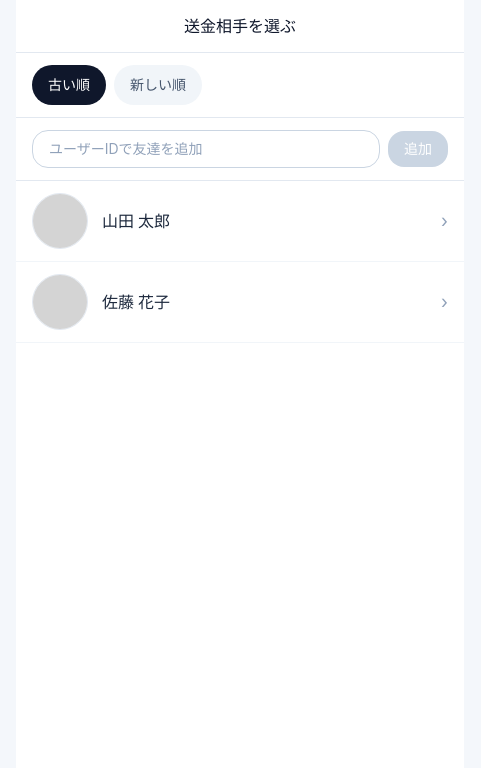
Test: RecipientSelectionScreen › 友達追加 › 追加に成功したら一覧を取り直す
Expected: the button "山田 太郎 ›" is shown, [16,181,464,261]
Type "friend-003" into the field labelled "ユーザーID".
click(206, 149); type("friend-003")  # box [32,130,380,168]
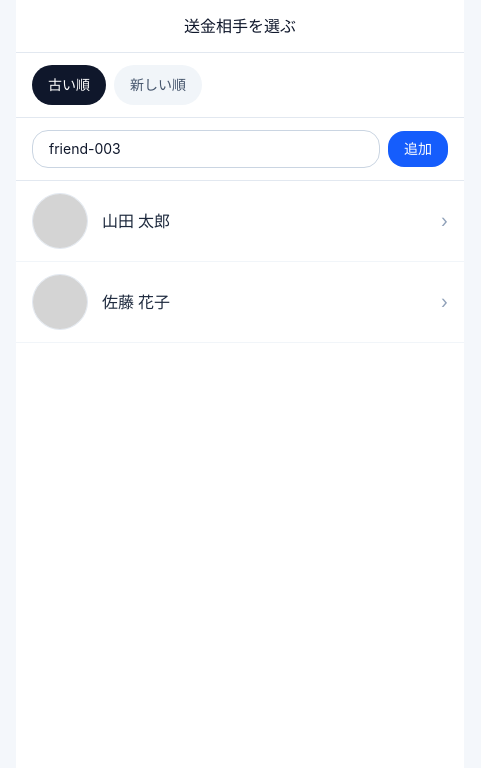
Click the button "追加".
click(418, 149)  # box [388,131,448,167]
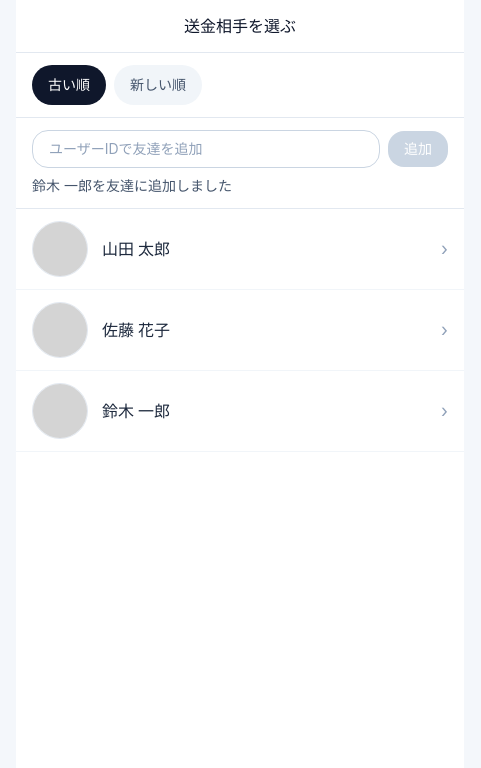
Result: the button "鈴木 一郎 ›" is shown at [16,371,464,451]
Result: the message reads "鈴木 一郎を友達に追加しました" at [32,177,232,194]
